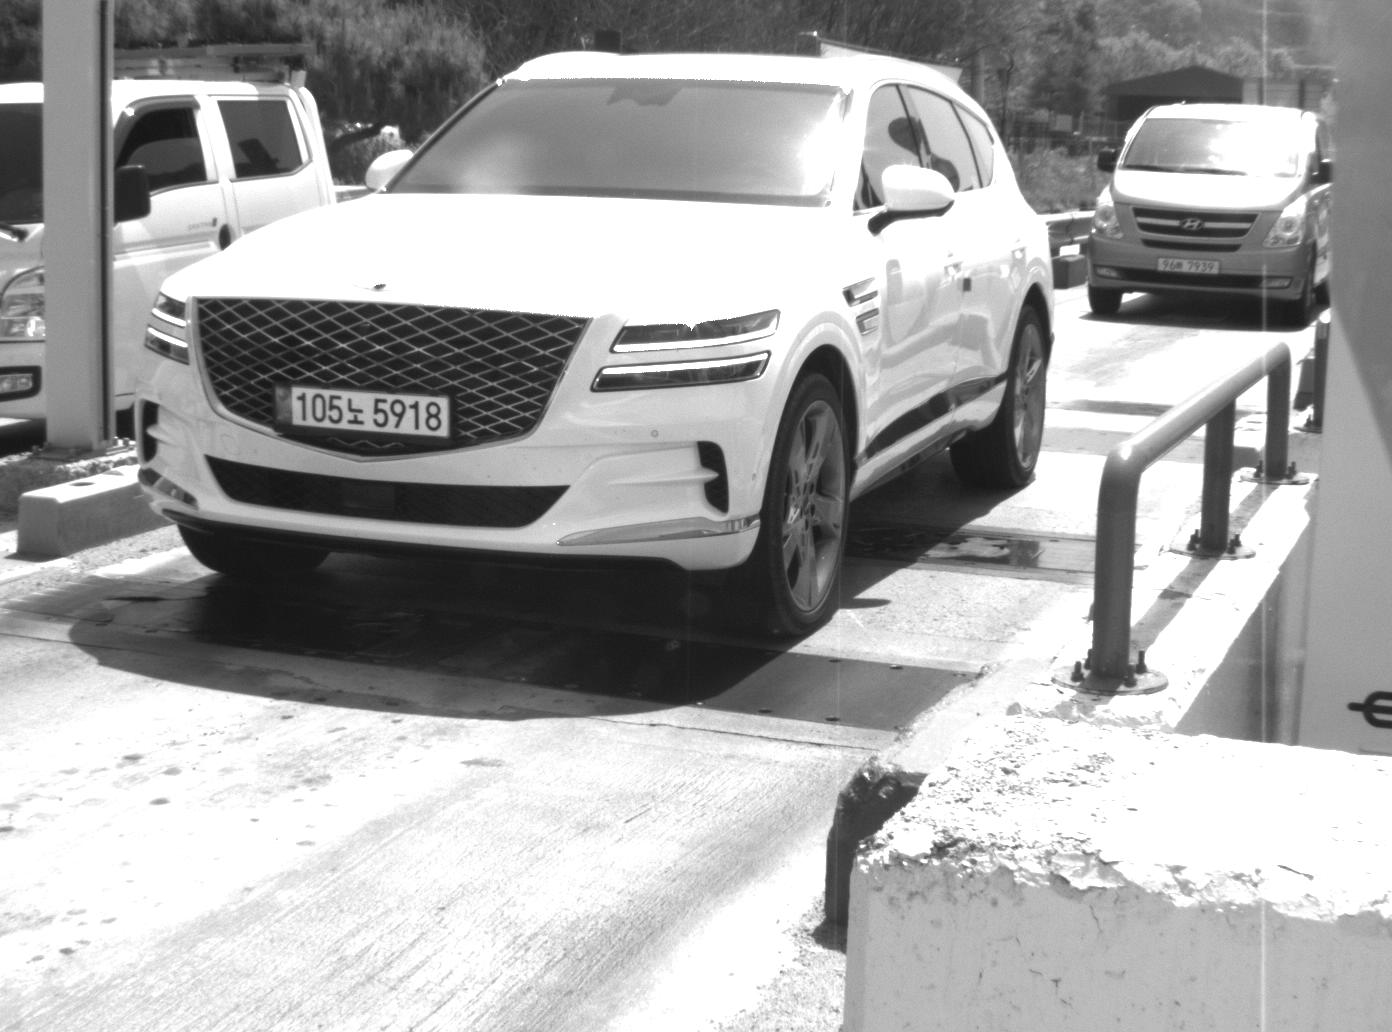car: (131, 45, 1060, 649), (1, 77, 345, 445), (1076, 97, 1329, 324)
plate: (268, 381, 454, 442), (1152, 253, 1222, 275)
